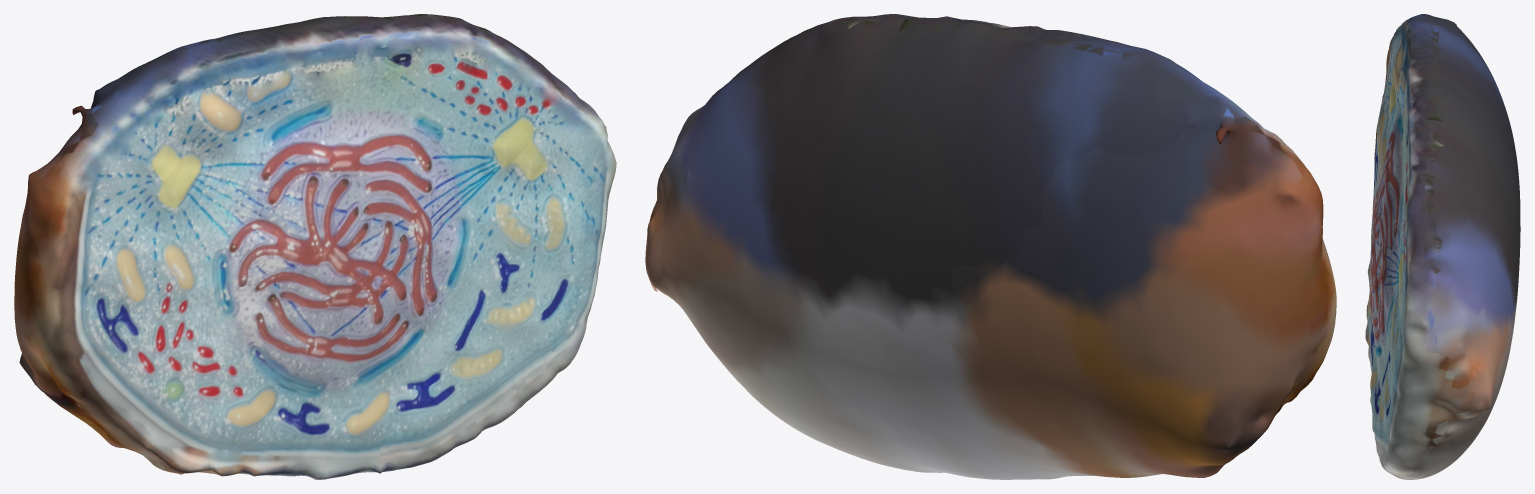
Rendered from mitosis_stage_3.glb.
The picture shows the model from 3 angles, left to right: view 1: azimuth 30°, elevation 25°; view 2: azimuth 150°, elevation 25°; view 3: azimuth 270°, elevation 25°; orthographic projection. The views are drawn at different scales.
Visible parts, largest first — view 1: Object_2; view 2: Object_2; view 3: Object_2.
Part boxes in pixels (x1,y1,x2,y2): Object_2: (14,14,616,479); Object_2: (645,14,1336,479); Object_2: (1365,14,1520,479).
Size of the model in its own units: 164 by 119 by 46.73.
1 material, 1 textured.
